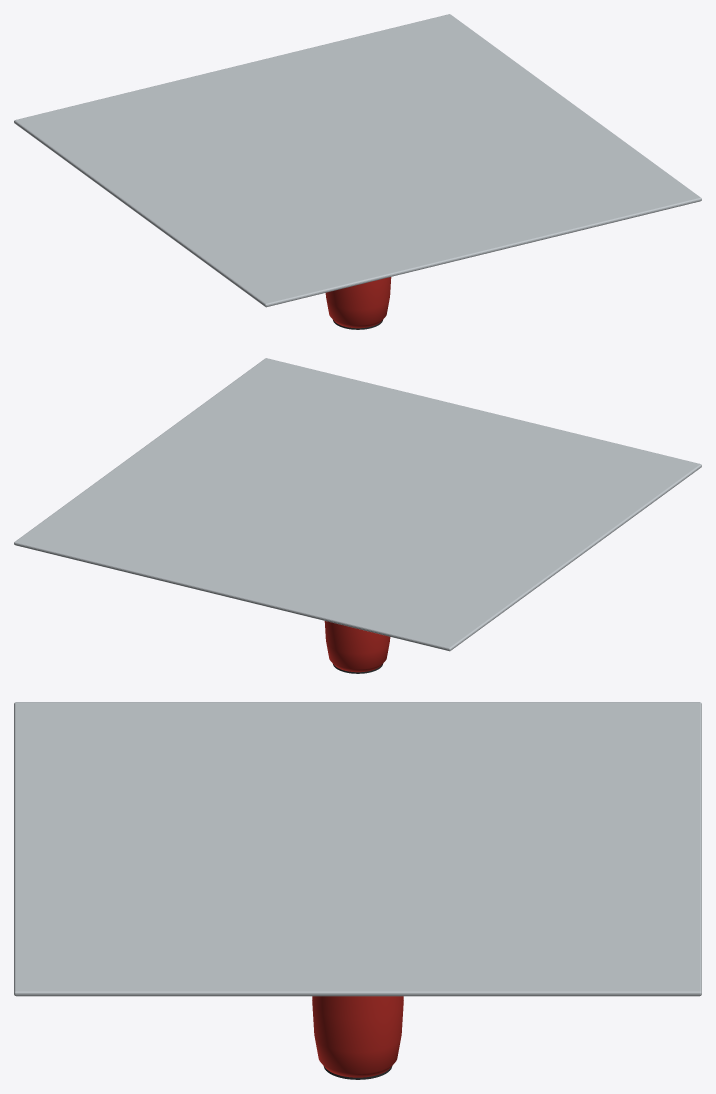
File: A-NEW-20261026-PLASTER-HAWK-001_LOD1_R1.fbx
The picture shows the model from 3 angles, top to bottom: view 1: azimuth 30°, elevation 25°; view 2: azimuth 150°, elevation 25°; view 3: azimuth 270°, elevation 25°; orthographic projection. The views are drawn at different scales.
Visible parts, largest first — view 1: thin square aluminum hawk plate, open ended red grip wall; view 2: thin square aluminum hawk plate, open ended red grip wall; view 3: thin square aluminum hawk plate, open ended red grip wall.
Boxes of the visible parts, bbox=[...] form: thin square aluminum hawk plate: bbox=[14, 14, 701, 307]; open ended red grip wall: bbox=[325, 277, 391, 328]; thin square aluminum hawk plate: bbox=[14, 358, 701, 651]; open ended red grip wall: bbox=[324, 621, 390, 672]; thin square aluminum hawk plate: bbox=[14, 702, 701, 996]; open ended red grip wall: bbox=[312, 996, 403, 1077].
Size of the model in its own units: 33.02 by 11.58 by 33.02.
